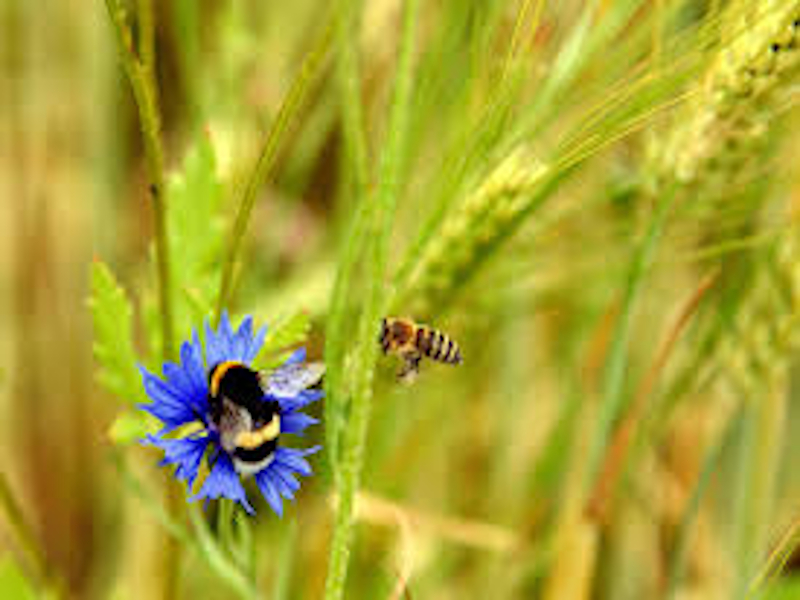abeja: (363, 308, 469, 387)
